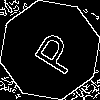P: (25, 25, 81, 77)
